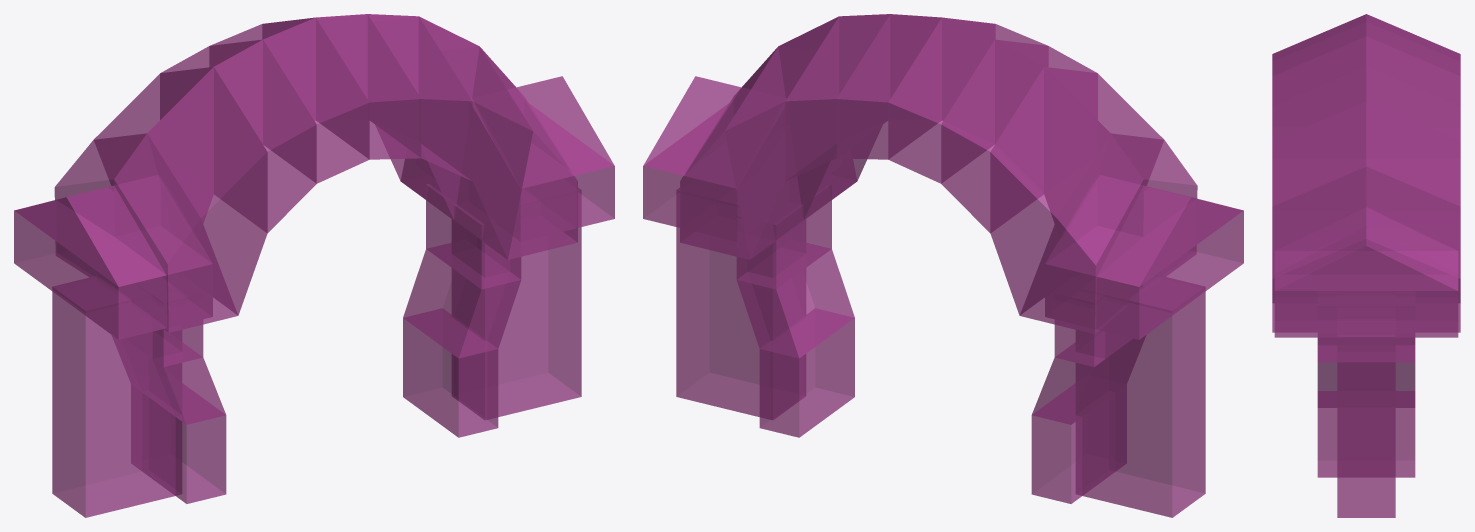
The model's file is SM_Bld_Gate_Dobei_01_Collision_01.fbx.
The picture shows the model from 3 angles, left to right: view 1: azimuth 30°, elevation 25°; view 2: azimuth 150°, elevation 25°; view 3: azimuth 270°, elevation 25°; orthographic projection. The views are drawn at different scales.
Parts seen in each view (by area): view 1: SM_Bld_Gate_Dobei_01_Collision_01; view 2: SM_Bld_Gate_Dobei_01_Collision_01; view 3: SM_Bld_Gate_Dobei_01_Collision_01.
Part boxes in pixels (<box>): SM_Bld_Gate_Dobei_01_Collision_01: <box>14,14,614,517</box>; SM_Bld_Gate_Dobei_01_Collision_01: <box>643,14,1243,517</box>; SM_Bld_Gate_Dobei_01_Collision_01: <box>1272,14,1460,517</box>.
Size of the model in its own units: 508 by 417 by 190.
